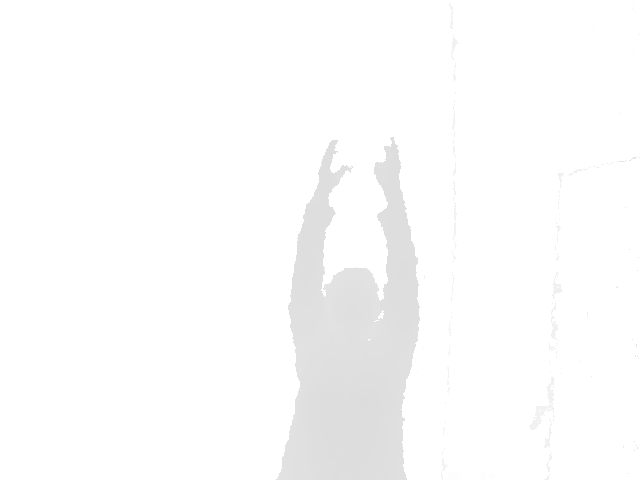hand: (316, 134, 350, 196), (372, 136, 402, 199)
head: (324, 266, 382, 326)
person: (274, 135, 422, 479)
